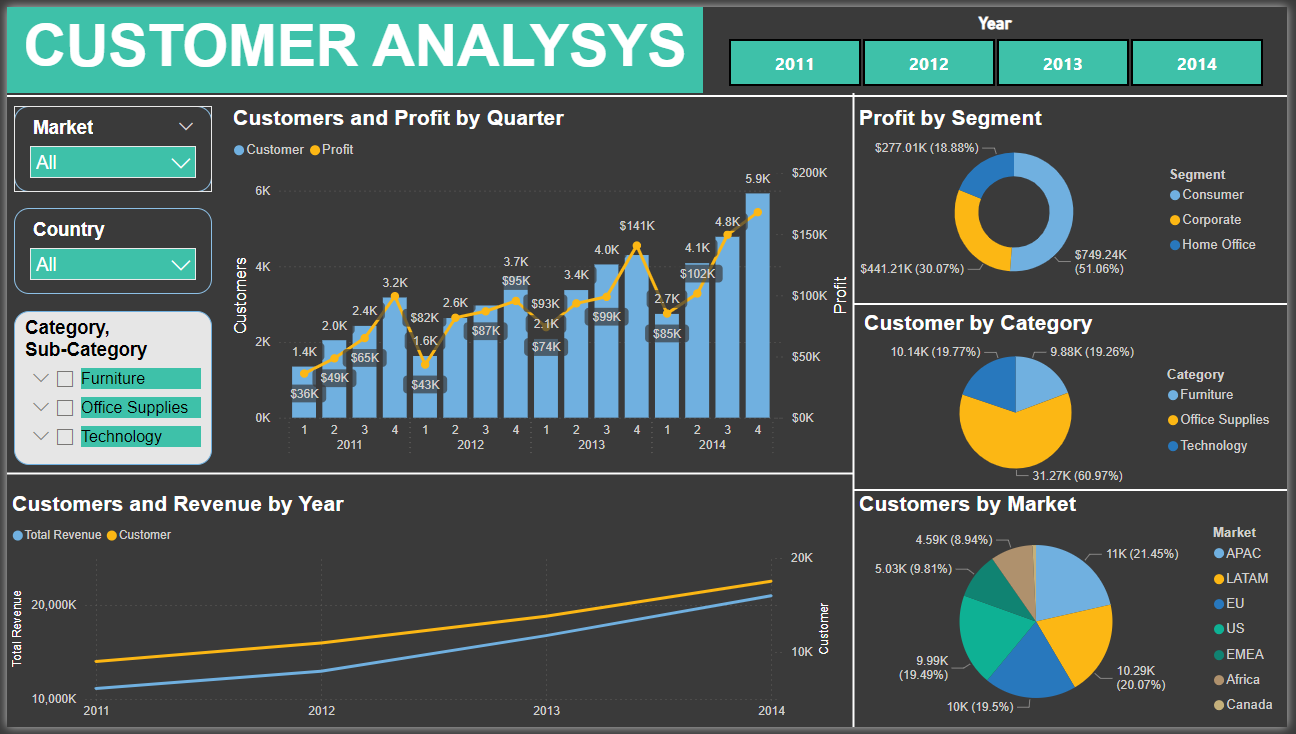

This screenshot's page, from the dashboard's own definition file:
{"tool":"powerbi","page":{"name":"Customer","canvas":[1280,720],"ordinal":2},"visuals":[{"type":"textbox","box":[0,0,695.6,85.8],"z":0},{"type":"slicer","title":"Year","fields":{"Values":["Orders.Order Date Hierarchy.Year"]},"box":[695.6,5.5,584.4,80.3],"z":1000},{"type":"pieChart","title":"Customers by Market","fields":{"Category":["Orders.Market"],"Y":["CountNonNull(Orders.Customer Name)"]},"box":[847.5,485.4,432.5,234.4],"z":2000},{"type":"lineClusteredColumnComboChart","title":" Customers and Profit by Quarter","fields":{"Category":["Orders.Order Date Hierarchy.Year","Orders.Order Date Hierarchy.Quarter","Orders.Order Date Hierarchy.Month","Orders.Order Date Hierarchy.Day"],"Y2":["Sum(Orders.Profit)"],"Y":["CountNonNull(Orders.Customer Name)"]},"box":[221.2,99.1,626.2,358.8],"z":3000},{"type":"slicer","fields":{"Values":["Orders.Market"]},"box":[6.6,99.1,198.1,85.8],"z":4000},{"type":"slicer","fields":{"Values":["Orders.Country"]},"box":[6.6,201.4,198.1,85.8],"z":5000},{"type":"donutChart","title":"Profit by Segment","fields":{"Y":["Sum(Orders.Profit)"],"Category":["Orders.Segment"]},"box":[847.5,99.1,416,188.2],"z":6000},{"type":"slicer","title":"Category, Sub-Category","fields":{"Values":["Orders.Category","Orders.Sub-Category"]},"box":[6.6,303.8,198.1,154.1],"z":7000},{"type":"shape","box":[0,70.4,1280,37.4],"z":8000},{"type":"shape","box":[837.6,85.8,17.6,633.9],"z":9000},{"type":"shape","box":[0,447.9,847.5,37.4],"z":10000},{"type":"lineChart","title":"Customers and Revenue by Year","fields":{"Category":["Orders.Order Date Hierarchy.Year","Orders.Order Date Hierarchy.Quarter","Orders.Order Date Hierarchy.Month","Orders.Order Date Hierarchy.Day"],"Y2":["CountNonNull(Orders.Customer Name)"],"Y":["_Measure.Total Revenue"]},"box":[0,485,830,235],"z":11000},{"type":"pieChart","fields":{"Y":["CountNonNull(Orders.Customer Name)"],"Series":["Orders.Category"]},"box":[851.9,303.8,424.8,179.4],"z":12000},{"type":"shape","box":[846.4,278.5,433.6,37.4],"z":13000},{"type":"shape","box":[846.4,464.5,433.6,37.4],"z":14000}]}

Visuals, with their boxes in screenshot pixels (x1, y1, x2, y2), scaled from the page's 1280x720 canvas onto the 1296x734 screenshot:
textbox: left=0, top=0, right=704, bottom=87
"Year" slicer: left=704, top=6, right=1295, bottom=87
"Customers by Market" pieChart: left=858, top=495, right=1295, bottom=733
" Customers and Profit by Quarter" lineClusteredColumnComboChart: left=224, top=101, right=858, bottom=467
slicer - Orders.Market: left=7, top=101, right=207, bottom=188
slicer - Orders.Country: left=7, top=205, right=207, bottom=293
"Profit by Segment" donutChart: left=858, top=101, right=1279, bottom=293
"Category, Sub-Category" slicer: left=7, top=310, right=207, bottom=467
shape: left=0, top=72, right=1295, bottom=110
shape: left=848, top=87, right=866, bottom=733
shape: left=0, top=457, right=858, bottom=495
"Customers and Revenue by Year" lineChart: left=0, top=494, right=840, bottom=733
pieChart - CountNonNull(Orders.Customer Name) x Orders.Category: left=863, top=310, right=1293, bottom=493
shape: left=857, top=284, right=1295, bottom=322
shape: left=857, top=474, right=1295, bottom=512
